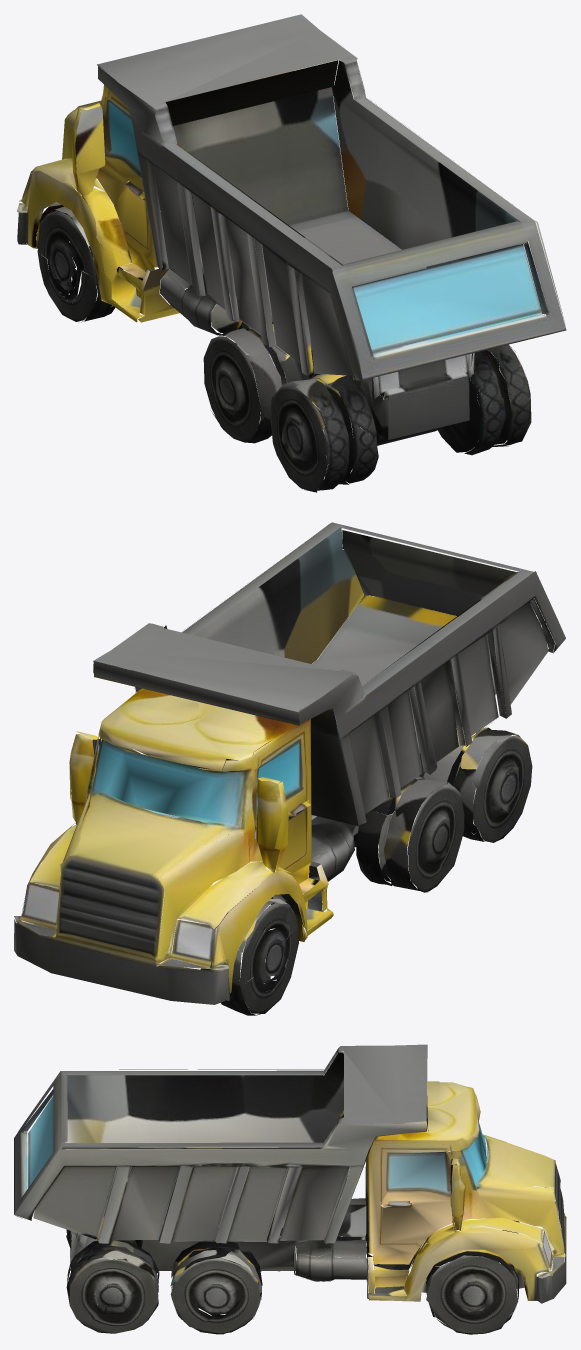
3 views of the same model, one above another, from view 1: azimuth 30°, elevation 25°; view 2: azimuth 150°, elevation 25°; view 3: azimuth 270°, elevation 25° (orthographic). The views are drawn at different scales.
Visible parts, largest first — view 1: Visual; view 2: Visual; view 3: Visual.
Part boxes in pixels (x1,y1,x2,y2): Visual: (17, 14, 566, 492); Visual: (14, 522, 565, 1015); Visual: (14, 1044, 566, 1334).
Bounding box in the file's own units: 2.55 × 3.11 × 7.21.
1 material, 1 textured.
